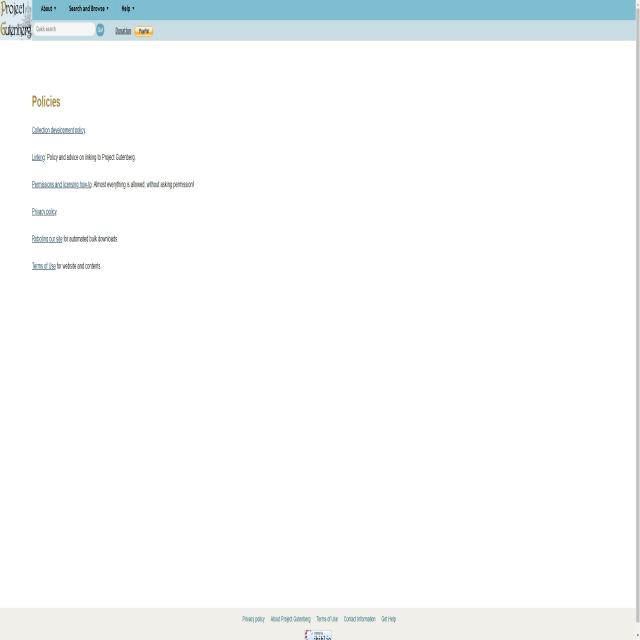search: (33, 20, 104, 37)
